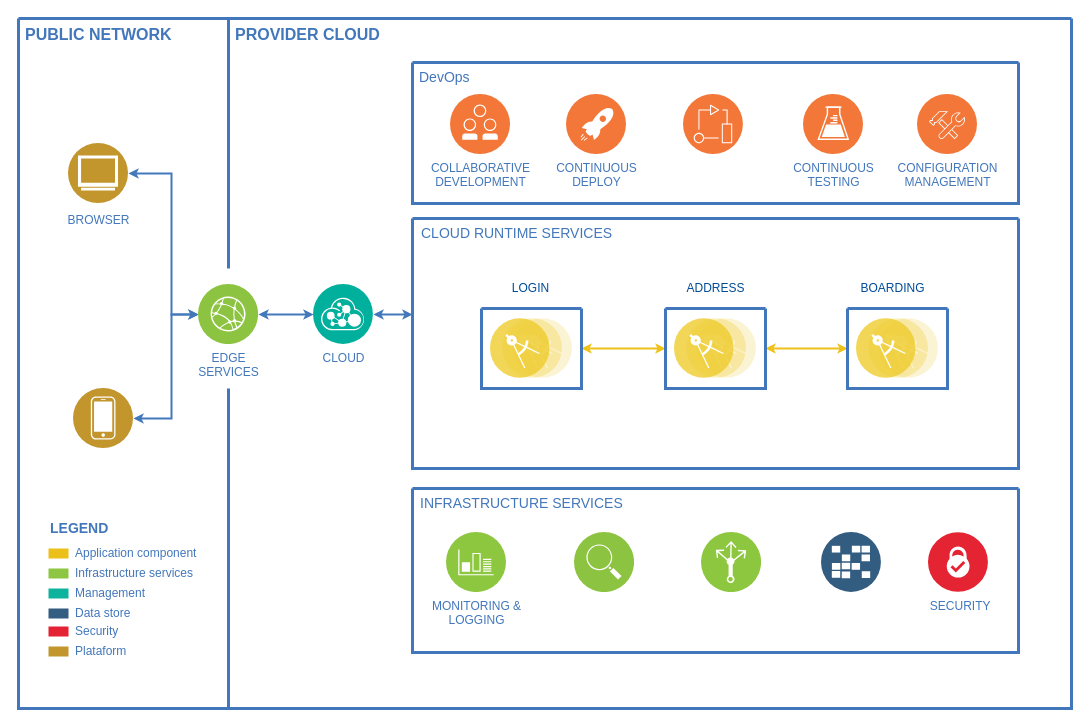
This 1090x727 diagram has some shape labels left out. Here are the shapes that lost their labels. From the top down, the centre of each, then its label:
At pixel 713 124: "CONTINUOS TESTING".
At pixel 103 418: "DEVICES".
At pixel 604 562: "SERVICE REGISTRY / DISCOVERY".
At pixel 731 562: "LOAD BALANCING ROUTING".
At pixel 851 562: "CACHE".
